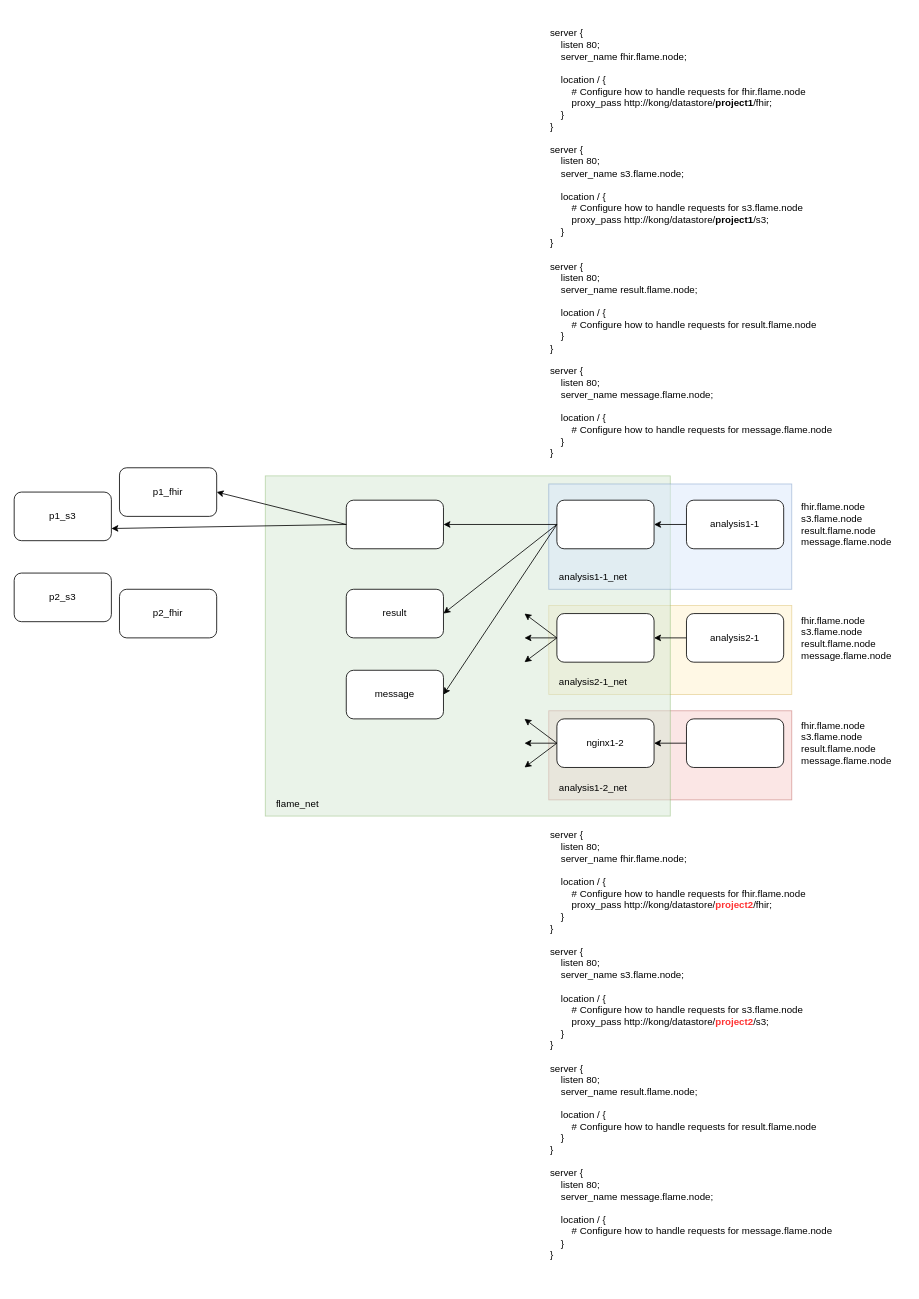
This 919x1299 diagram has some shape labels left out. Each missing label, with the centre of its shape:
analysis1-2: [735,742]
kong: [394,524]
nginx1-1: [605,524]
nginx2-1: [605,637]
